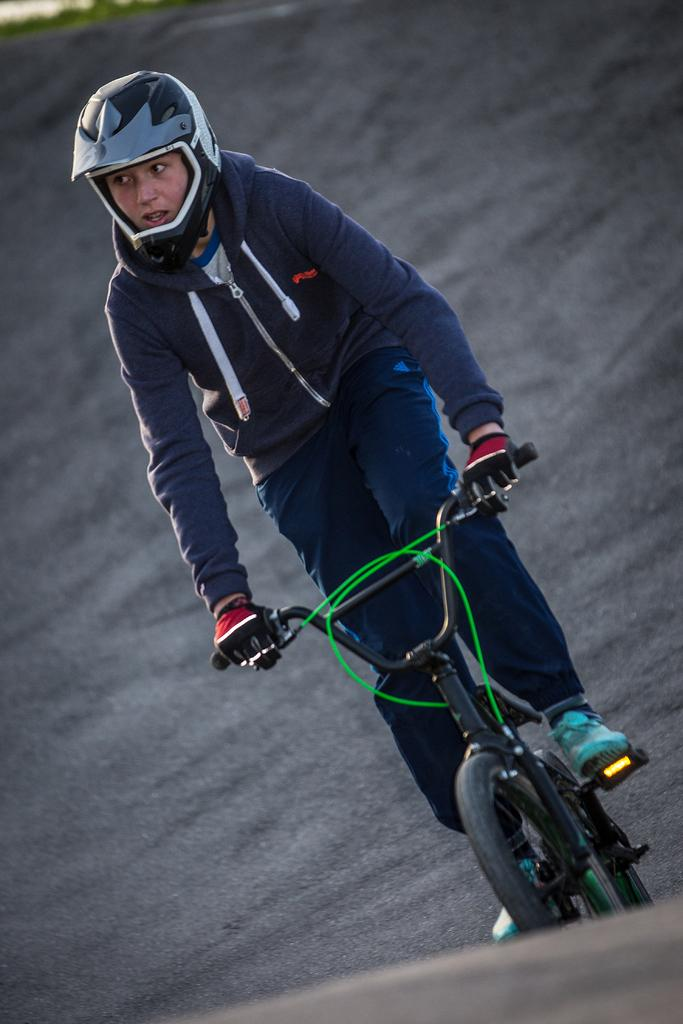helmet: (71, 70, 222, 272)
